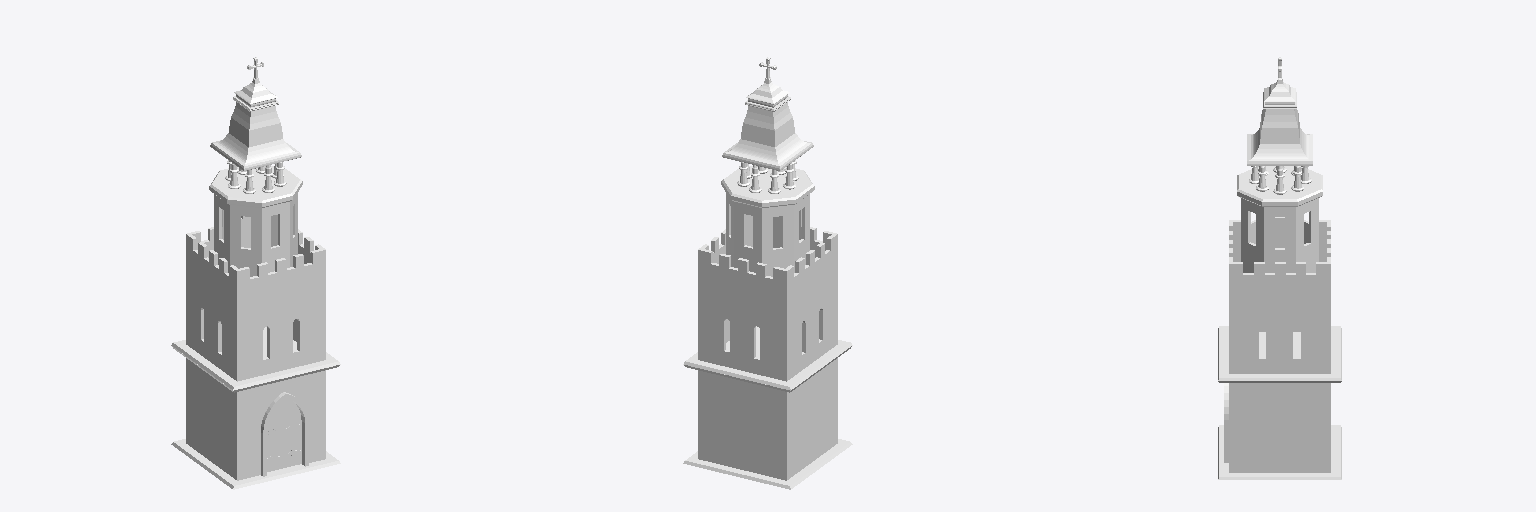
File: castle-tower.obj
3 renders of one model, left to right at view 1: azimuth 30°, elevation 25°; view 2: azimuth 150°, elevation 25°; view 3: azimuth 270°, elevation 25°, orthographic.
Visible parts, largest first — view 1: T_LOW, T_MID, T_TOP, T_TRIM_1, T_TRIM_2, T_DOOR, T_BASE, T_ARCH, T_COLLS; view 2: T_LOW, T_MID, T_TOP, T_TRIM_1, T_TRIM_2, T_BASE, T_COLLS; view 3: T_LOW, T_MID, T_TOP, T_TRIM_1, T_TRIM_2, T_BASE, T_COLLS.
Boxes of the visible parts, x1,y1,x2,y2 form: T_LOW: [186, 227, 325, 480]; T_MID: [214, 193, 297, 276]; T_TOP: [210, 77, 301, 170]; T_TRIM_1: [171, 327, 340, 392]; T_TRIM_2: [209, 166, 302, 207]; T_DOOR: [267, 398, 301, 471]; T_BASE: [171, 439, 340, 489]; T_ARCH: [261, 392, 308, 476]; T_COLLS: [225, 160, 286, 193]; T_LOW: [698, 227, 837, 480]; T_MID: [726, 193, 809, 276]; T_TOP: [722, 77, 813, 170]; T_TRIM_1: [683, 326, 852, 392]; T_TRIM_2: [721, 166, 814, 207]; T_BASE: [683, 439, 852, 489]; T_COLLS: [737, 160, 798, 193]; T_LOW: [1229, 220, 1330, 472]; T_MID: [1241, 198, 1318, 272]; T_TOP: [1247, 78, 1312, 165]; T_TRIM_1: [1218, 326, 1341, 382]; T_TRIM_2: [1237, 166, 1322, 206]; T_BASE: [1218, 425, 1341, 479]; T_COLLS: [1249, 166, 1311, 194].
Bounding box in the file's own units: 195 × 684 × 195.